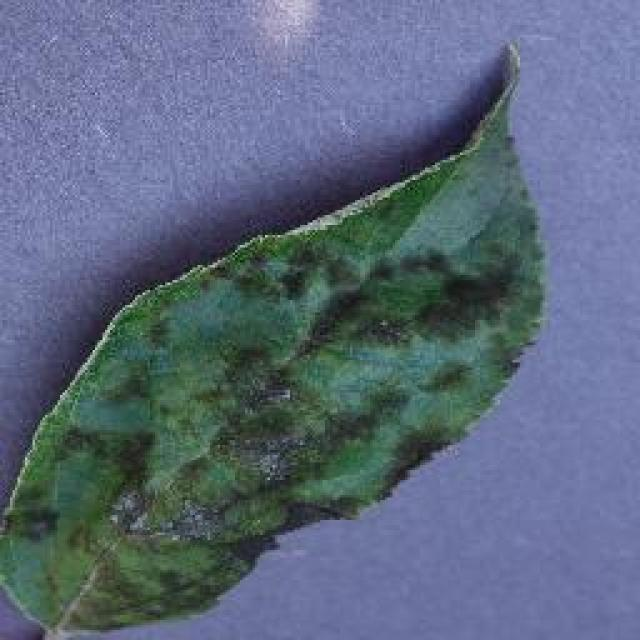apple scab disease: (0, 35, 550, 637)
